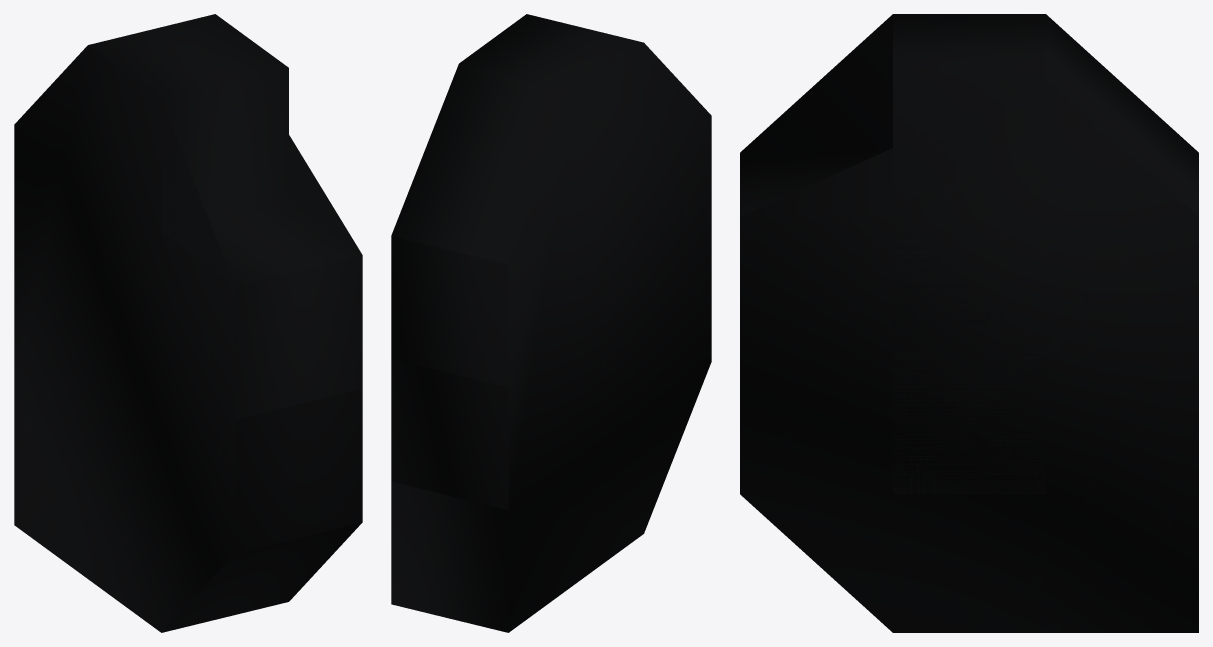
3 views of the same model, side by side, from view 1: azimuth 30°, elevation 25°; view 2: azimuth 150°, elevation 25°; view 3: azimuth 270°, elevation 25° (orthographic). The views are drawn at different scales.
Bounding box in the file's own units: 0.24 × 0.96 × 0.72.
1 material, 1 textured.
